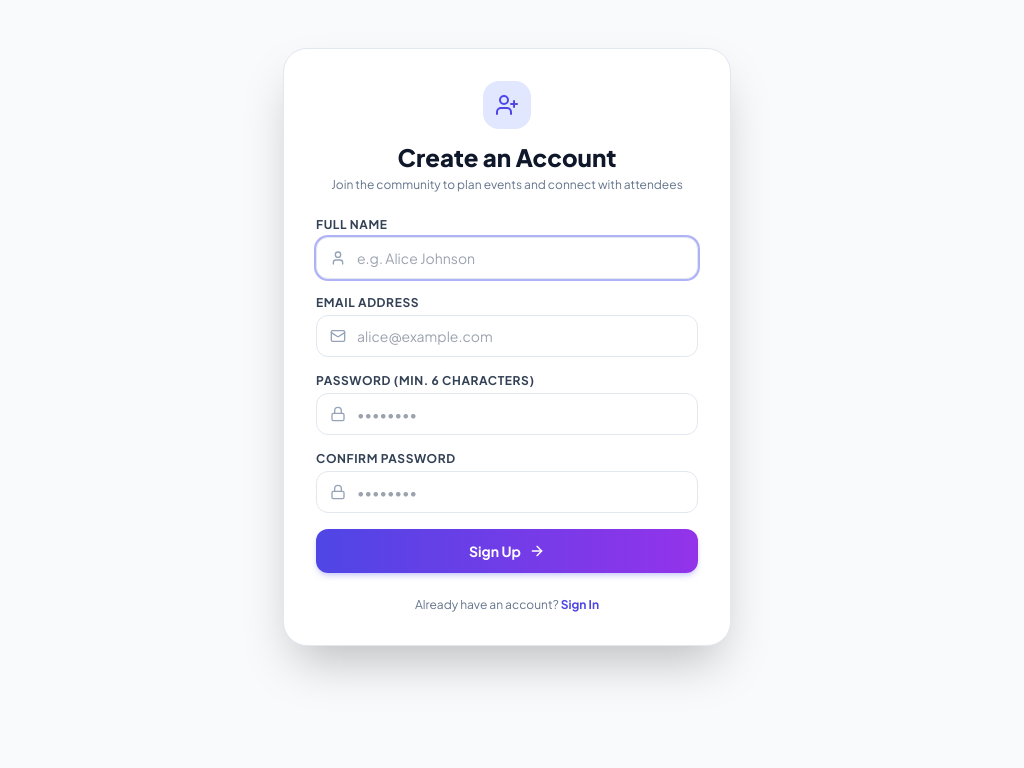
Email Verification Pages & Components › displays Check Your Inbox confirmation on RegisterPage upon successful registration
Type "New User" into the field with placeholder "e.g. Alice Johnson" at (507, 258), box [316,237,698,279]
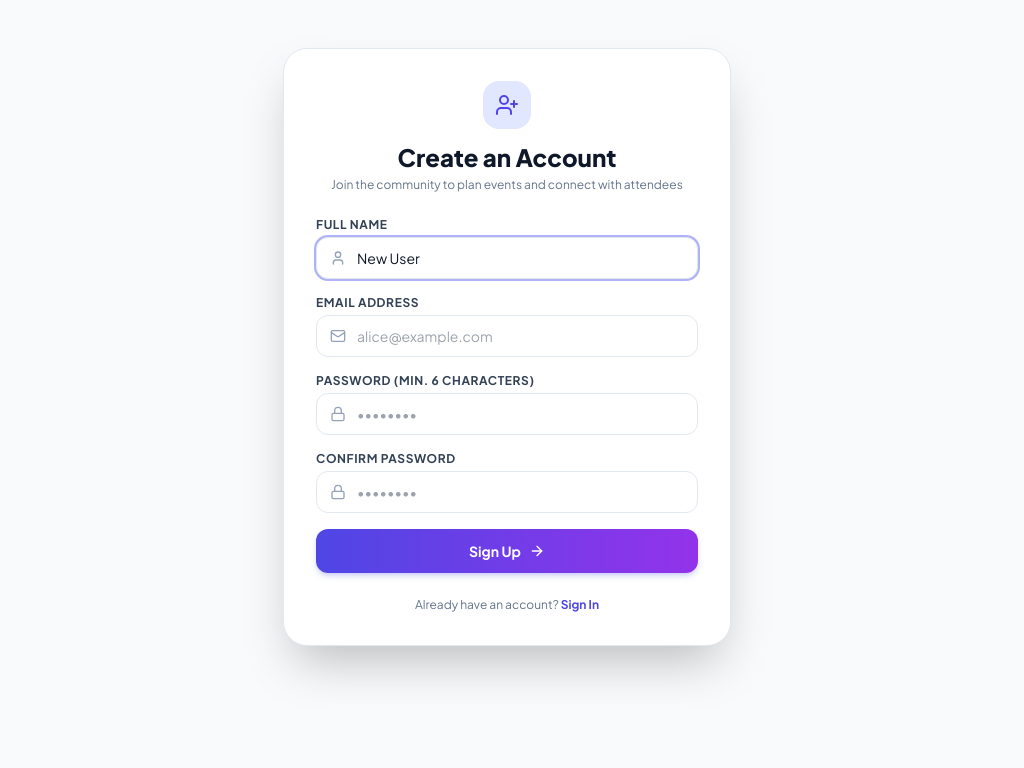
Type "newuser@example.com" into the field with placeholder "alice@example.com" at (507, 336), box [316,315,698,357]
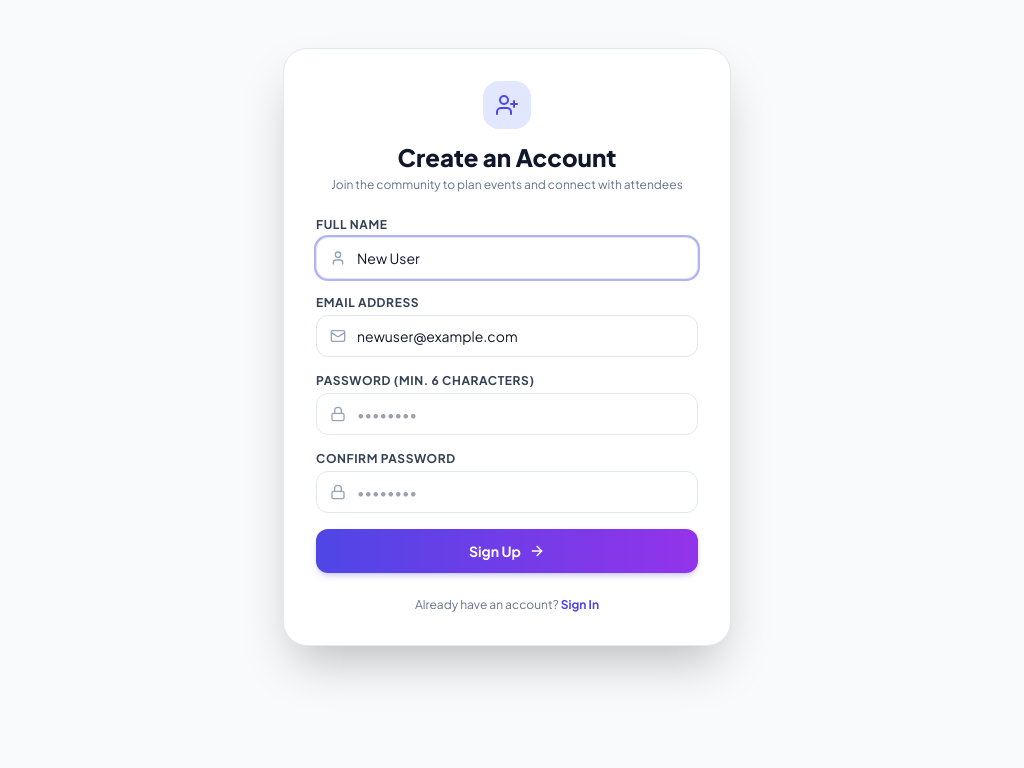
Type "Secret123!" into the password field with placeholder "••••••••" below "Password (min. 6 characters)" at (507, 414), box [316,393,698,435]
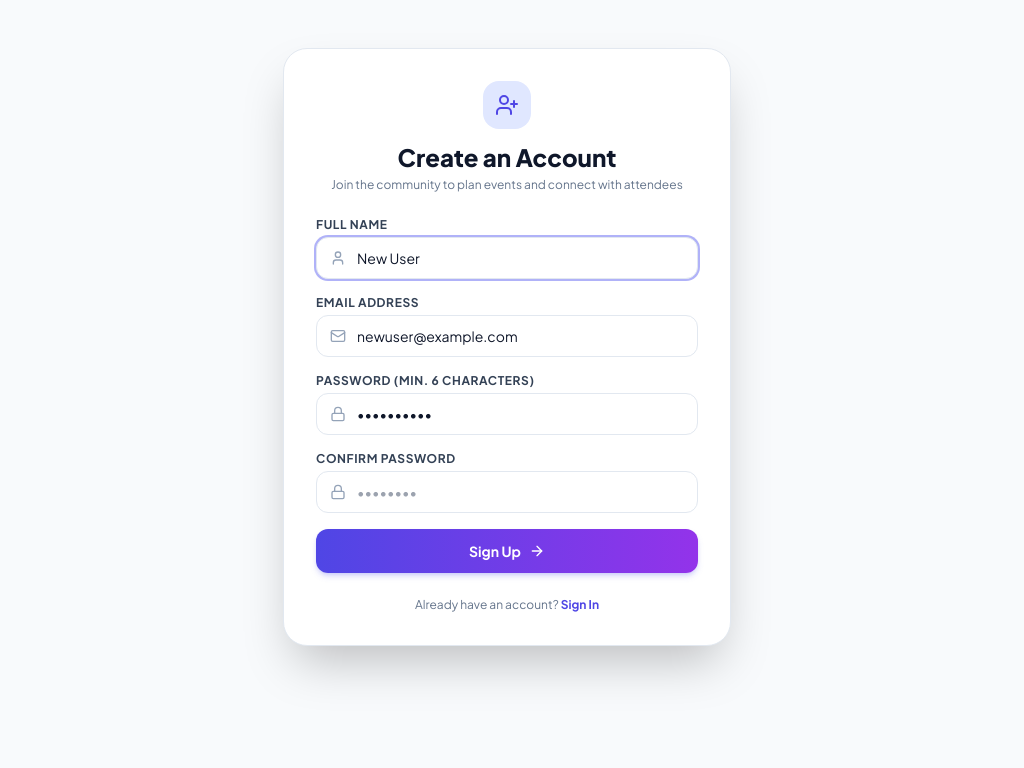
Type "Secret123!" into the password field with placeholder "••••••••" at (507, 492), box [316,471,698,513]
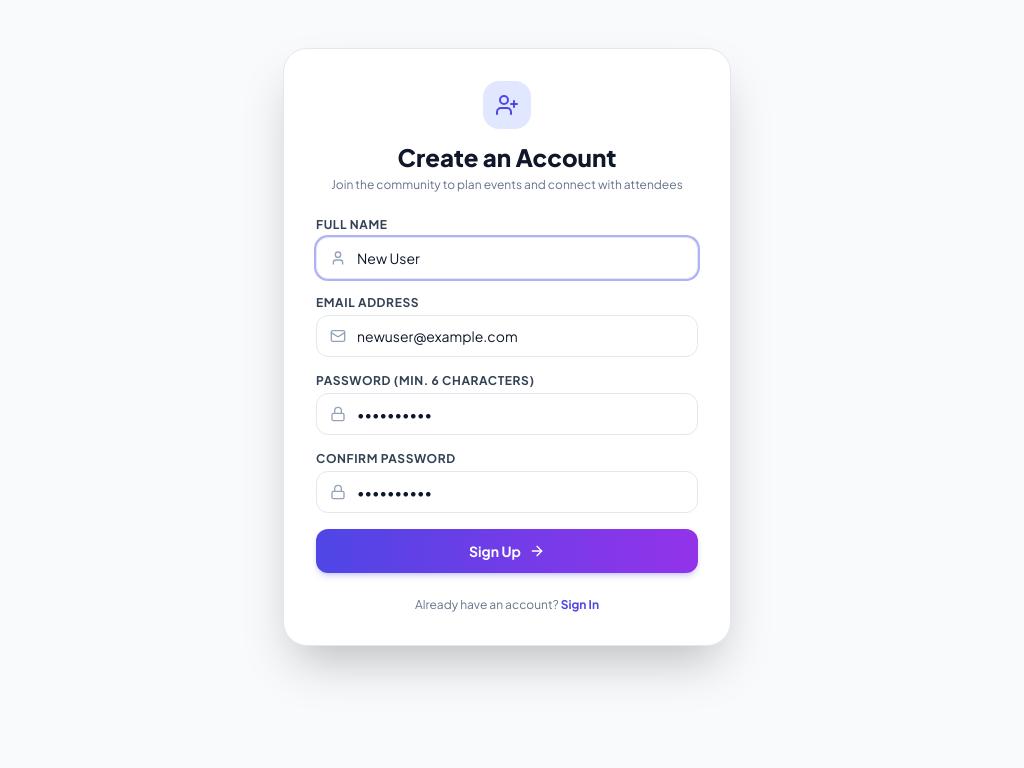
Click the button "Sign Up" at (507, 551), box [316,529,698,573]
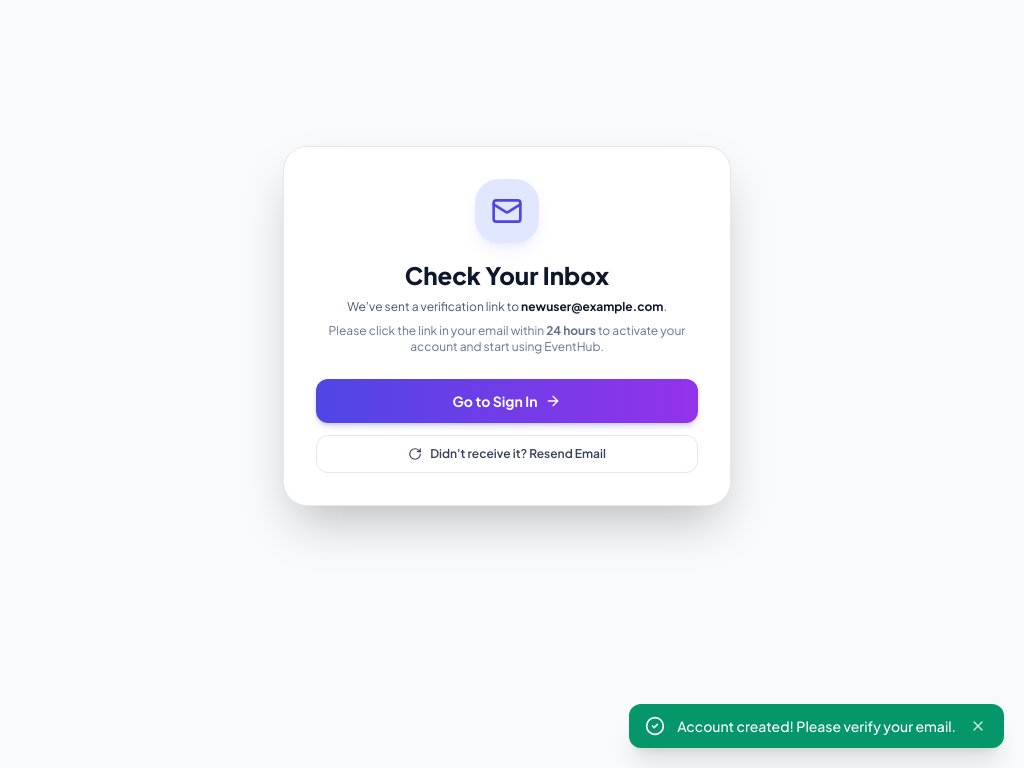
expect the heading "Check Your Inbox" is shown: met, box [405,260,609,290]
expect the text "newuser@example.com" is shown: met, box [521,299,663,314]
expect the link "Go to Sign In" is shown: met, box [316,379,698,423]
